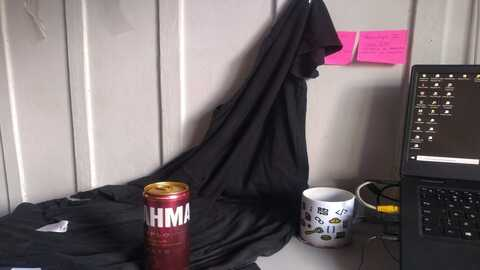duplo_malte: (140, 179, 193, 270)
